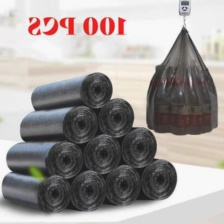plastic_bag: (142, 23, 224, 137), (26, 66, 115, 111), (3, 136, 87, 178), (18, 105, 99, 145), (0, 169, 70, 212), (131, 154, 180, 202), (65, 165, 108, 214), (80, 132, 125, 177), (95, 94, 137, 142), (104, 161, 144, 209), (118, 124, 158, 169)
